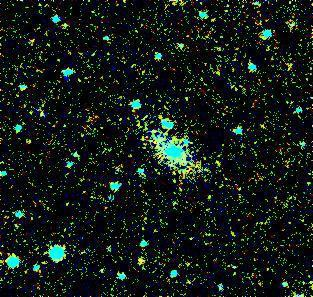star: (127, 252, 157, 282)
